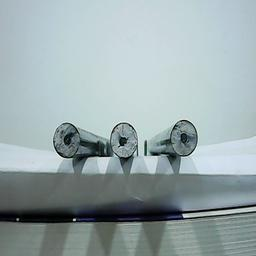pen: (109, 121, 139, 158), (170, 118, 198, 157), (52, 122, 80, 159)
